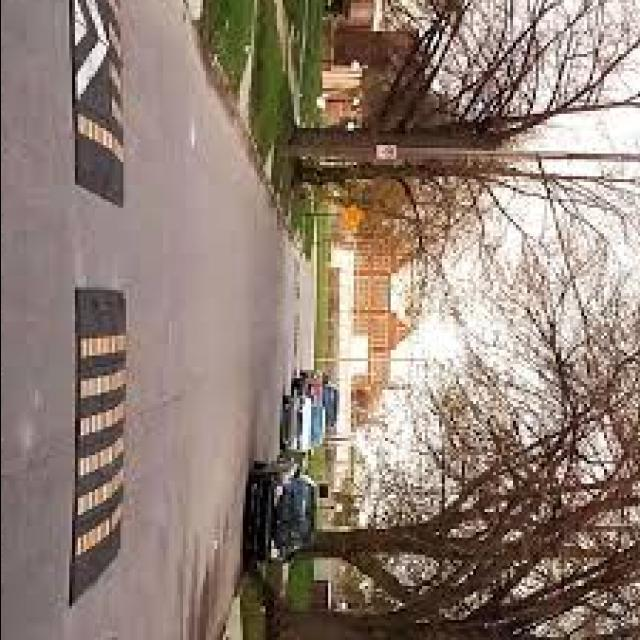speedbreaker: (74, 291, 126, 597), (68, 0, 128, 208)
